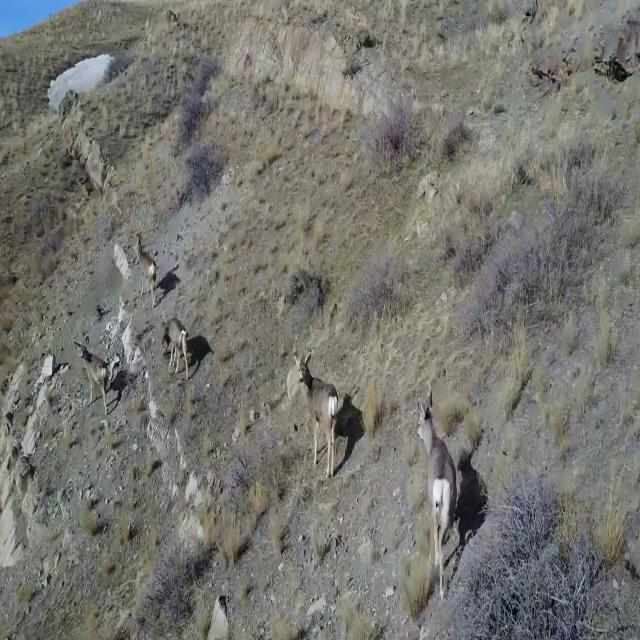Deer: (412, 382, 462, 598), (292, 337, 340, 479), (73, 332, 113, 418), (132, 233, 162, 309), (161, 311, 190, 381)
